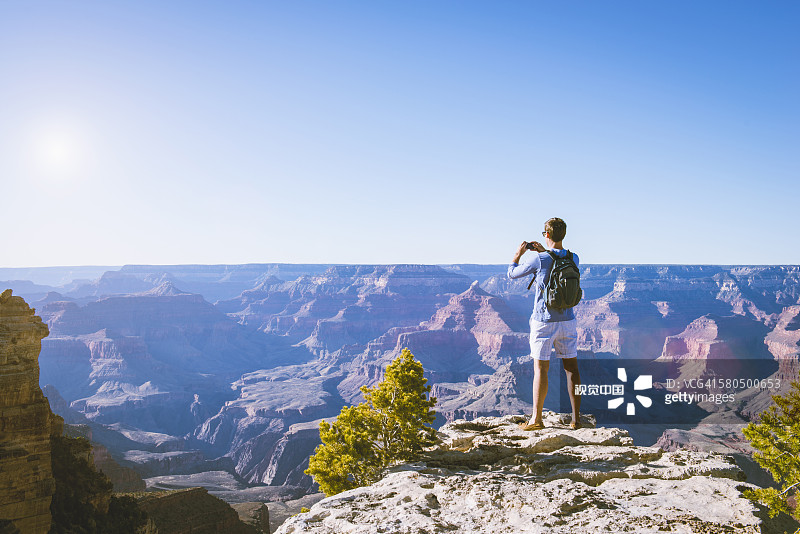taking photos: (506, 236, 549, 254)
